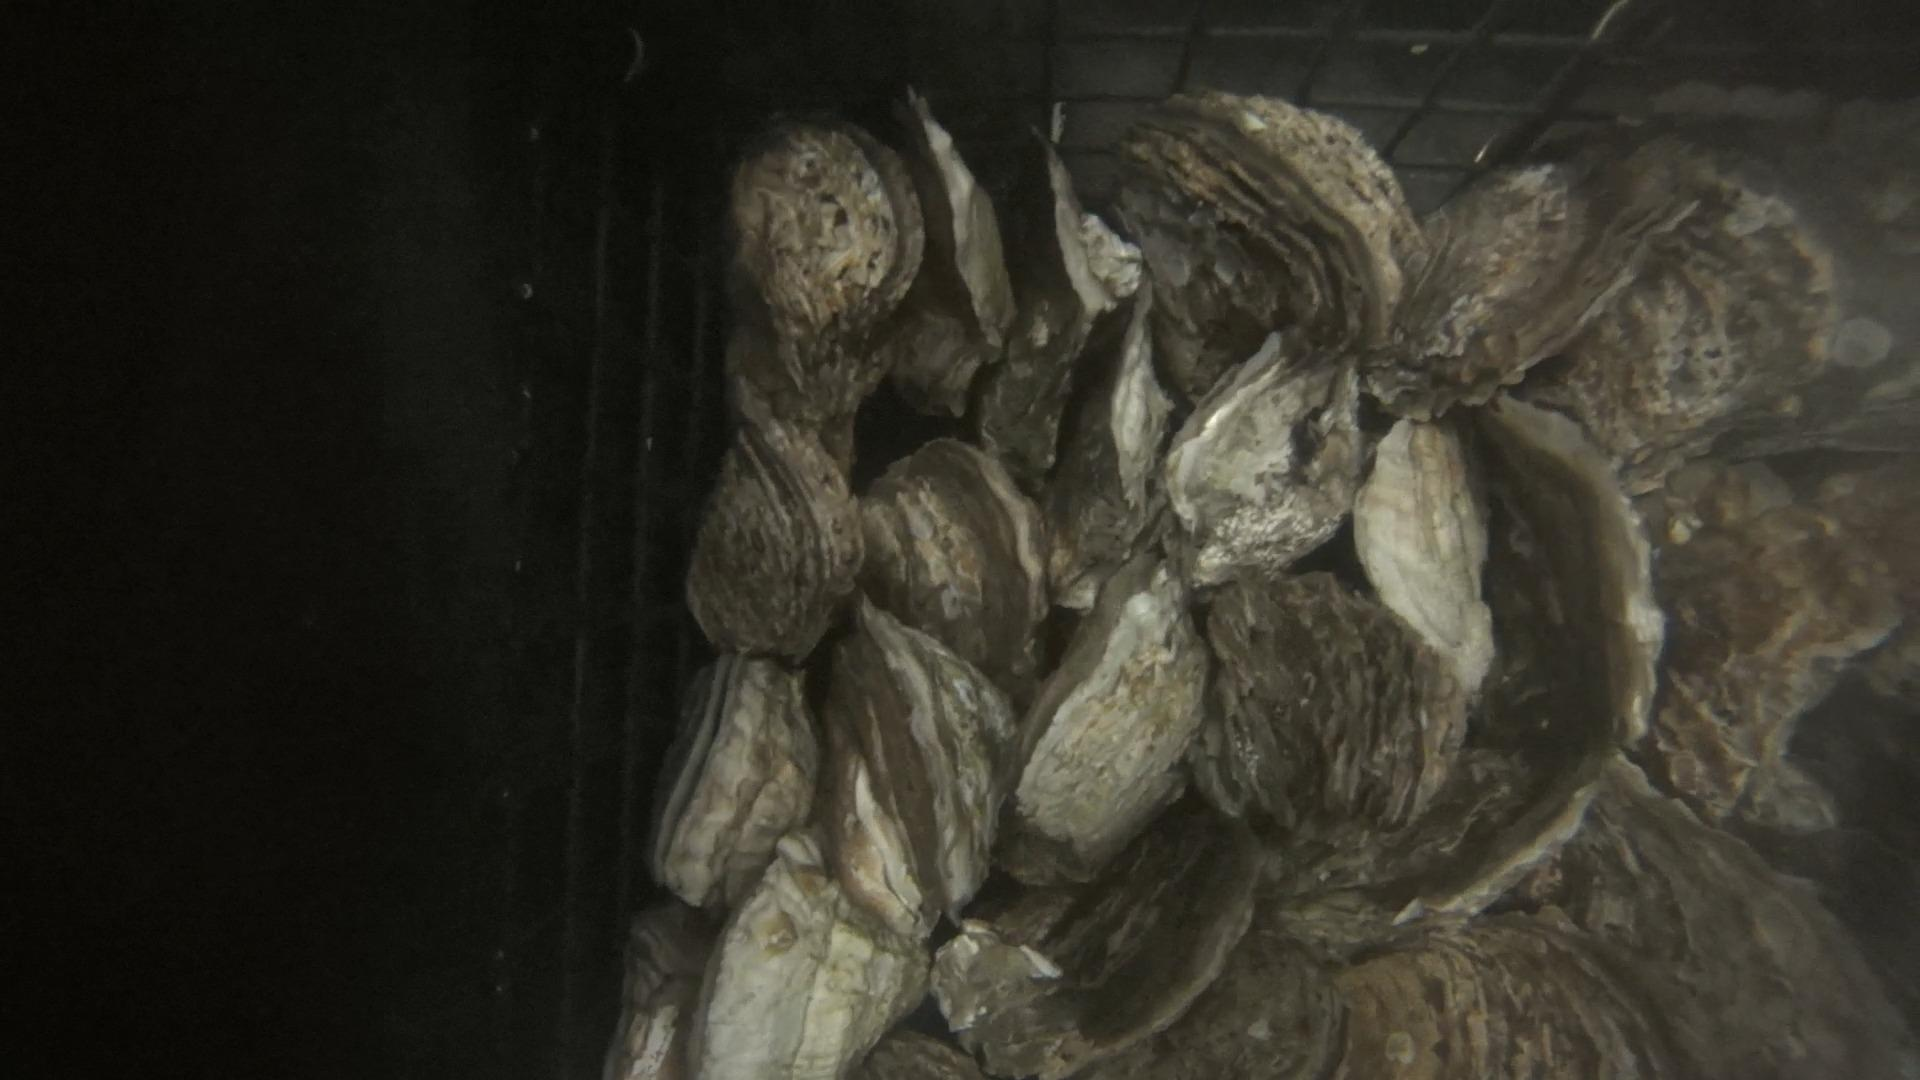3: (1367, 137, 1718, 418), (1120, 88, 1425, 398), (1191, 570, 1468, 837), (1473, 393, 1668, 771), (731, 124, 923, 468), (827, 597, 1015, 923), (977, 133, 1145, 488), (1263, 748, 1532, 960), (1166, 328, 1365, 585), (858, 436, 1048, 702), (1044, 278, 1174, 608), (653, 655, 818, 906), (891, 86, 1015, 415), (1394, 752, 1618, 927), (824, 735, 936, 939)
Oyster-Closed: (1015, 551, 1208, 880), (688, 417, 862, 661), (1356, 419, 1497, 694)
Oyster-Open: (1563, 757, 1920, 1080), (1091, 909, 1675, 1080), (1526, 175, 1840, 492), (931, 796, 1266, 1079), (1647, 465, 1905, 829), (688, 832, 928, 1080)
